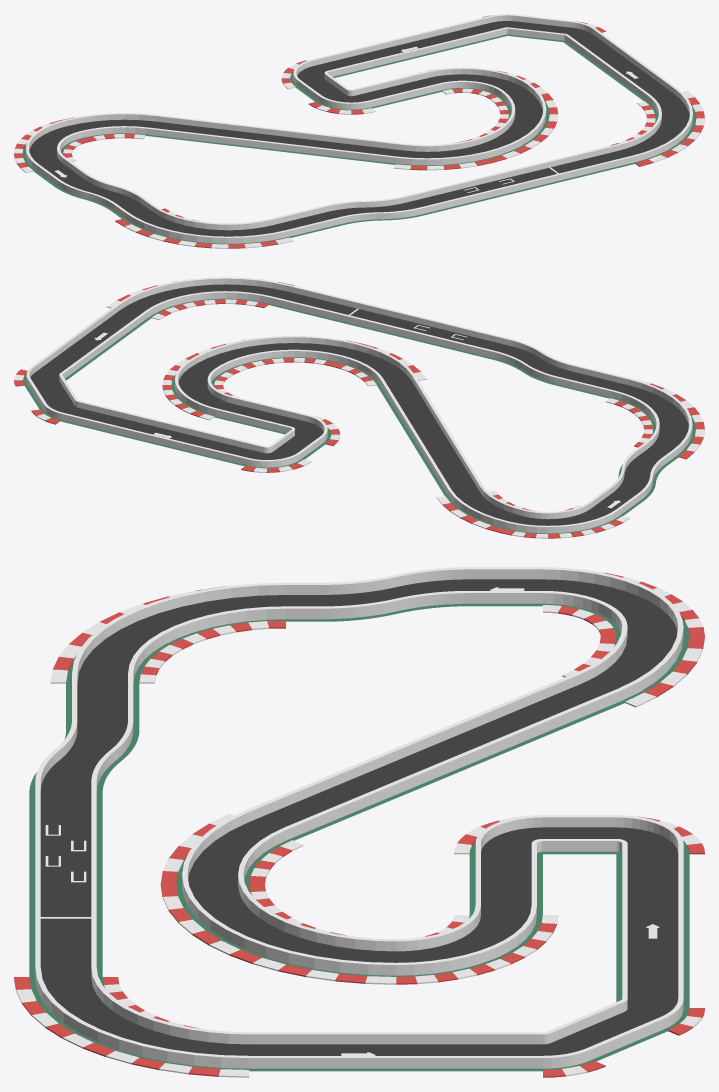
The model's file is track.dae.
3 views of the same model, one above another, from view 1: azimuth 30°, elevation 25°; view 2: azimuth 150°, elevation 25°; view 3: azimuth 270°, elevation 25° (orthographic). The views are drawn at different scales.
Visible parts, largest first — view 1: node4, node2, node1, node0, node3; view 2: node4, node2, node1, node0, node3; view 3: node2, node4, node1, node0, node3.
Part boxes in pixels (box(x1,y1,x2,y2)): node4: box(26, 14, 692, 243); node2: box(29, 21, 689, 236); node1: box(14, 20, 704, 248); node0: box(22, 34, 696, 244); node3: box(14, 15, 704, 248); node4: box(26, 277, 692, 532); node2: box(30, 284, 688, 525); node1: box(14, 279, 704, 538); node0: box(23, 298, 695, 533); node3: box(14, 279, 704, 538); node2: box(40, 579, 678, 1055); node4: box(35, 567, 683, 1067); node1: box(16, 570, 703, 1077); node0: box(29, 603, 689, 1071); node3: box(14, 569, 704, 1077).
Size of the model in its own units: 32.84 by 18.84 by 0.3299.
